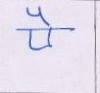ai_matra: (27, 7, 53, 27)
